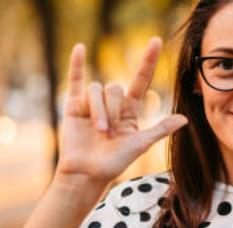back: (54, 35, 187, 176)
